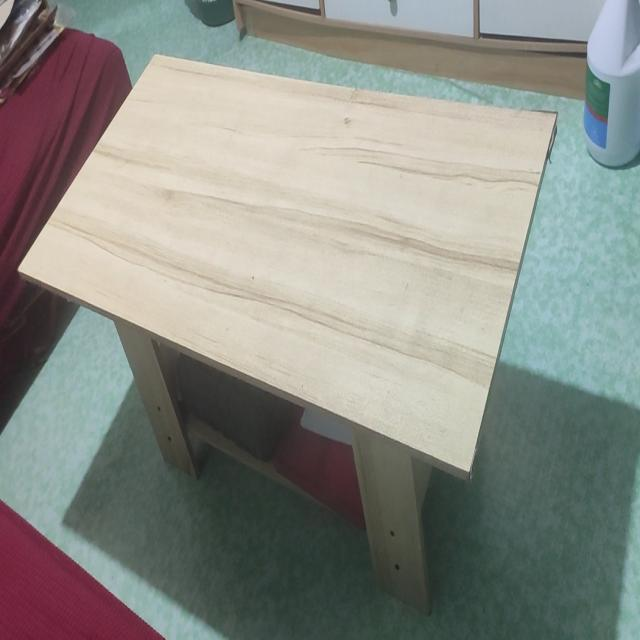table: (19, 46, 561, 594)
